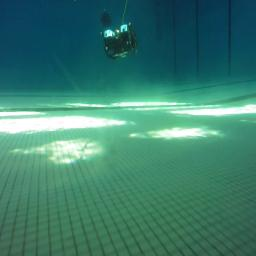front: (99, 22, 139, 61)
